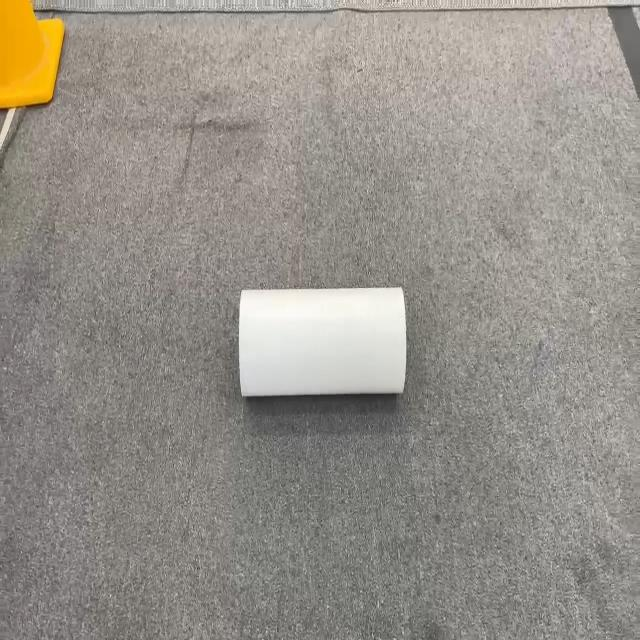coral: (237, 284, 407, 398)
